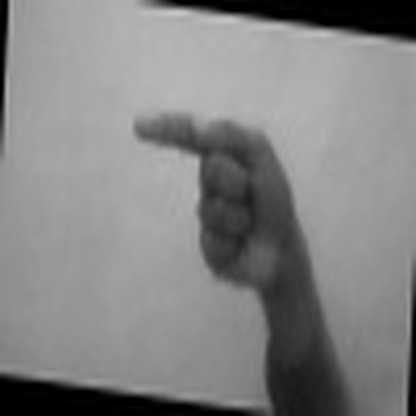g: (123, 105, 314, 292)
